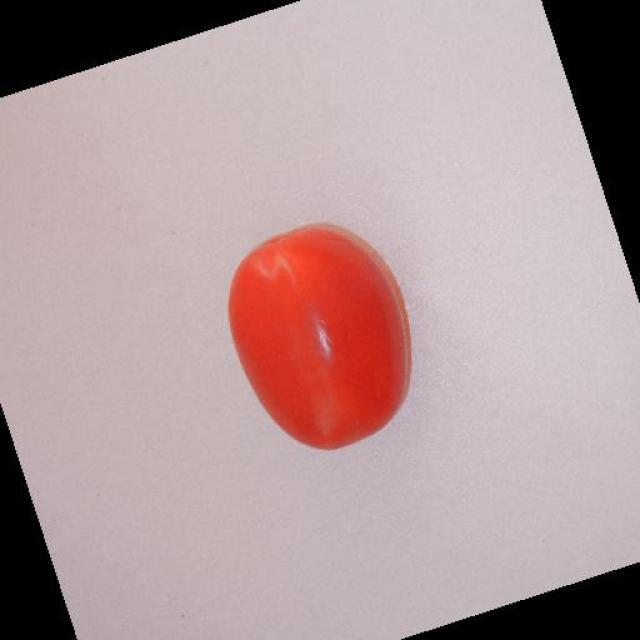Fresh Tomato: (204, 200, 449, 481)
